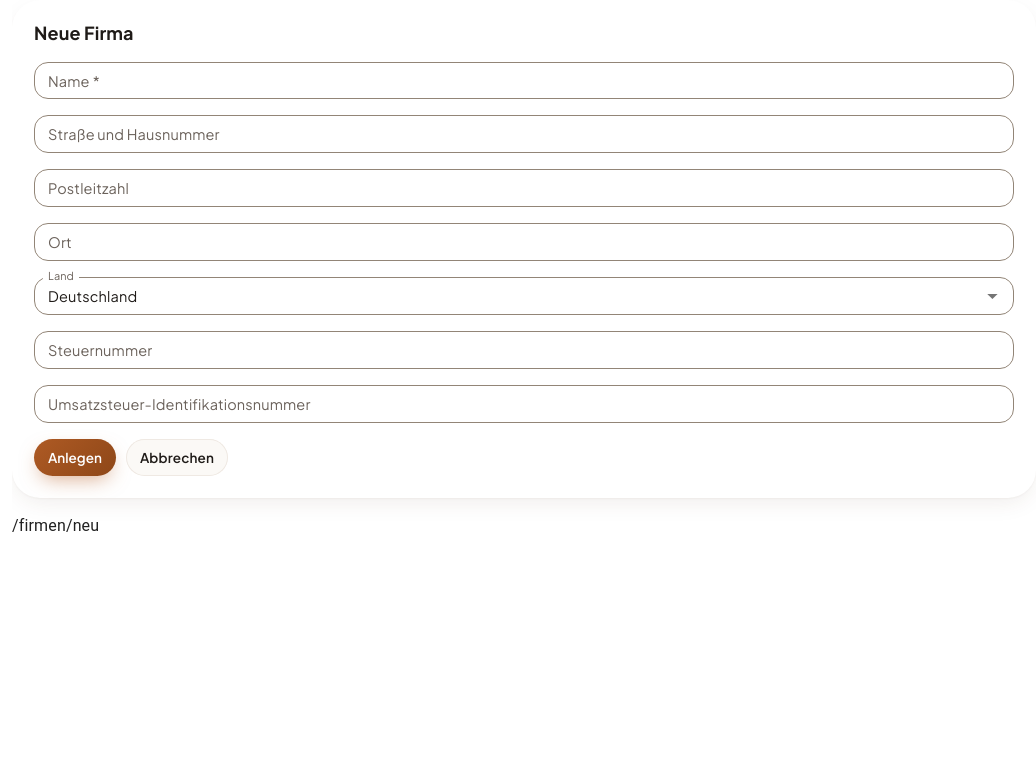
FirmaMaske — Anlegen › zeigt beim Ausfall eine Meldung und bleibt in der Maske
Type "Neue GmbH" into the field labelled "Name" at (524, 80), box [34,62,1014,99]
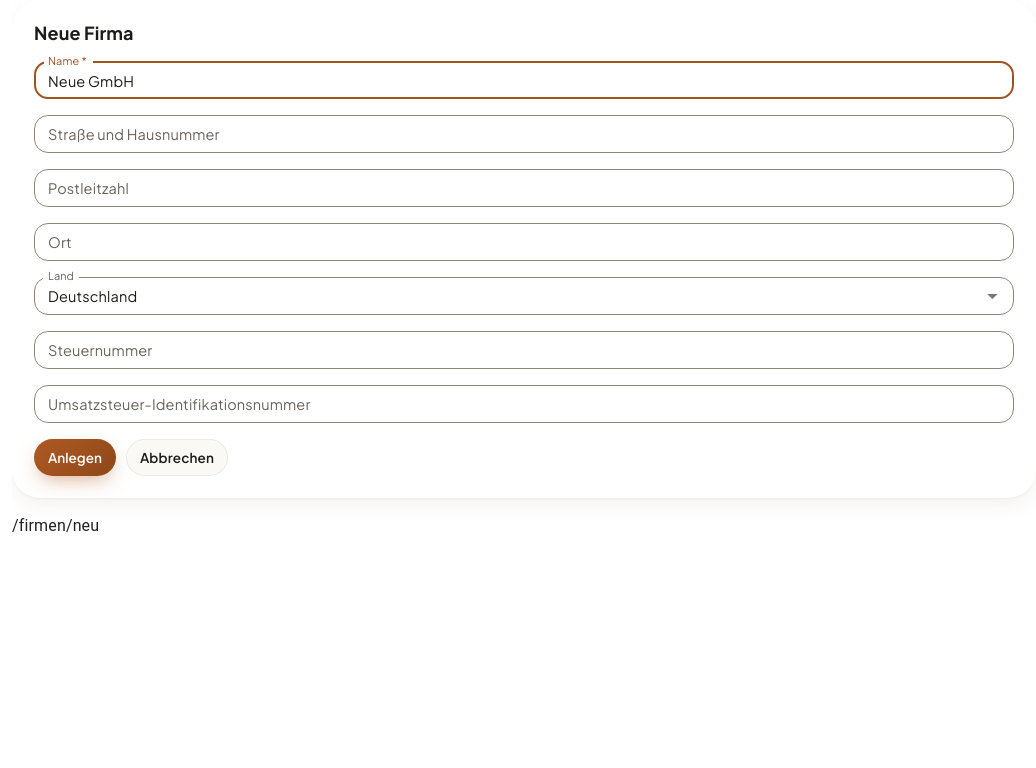
Click the button "Anlegen" at (75, 457), box [34,438,116,476]
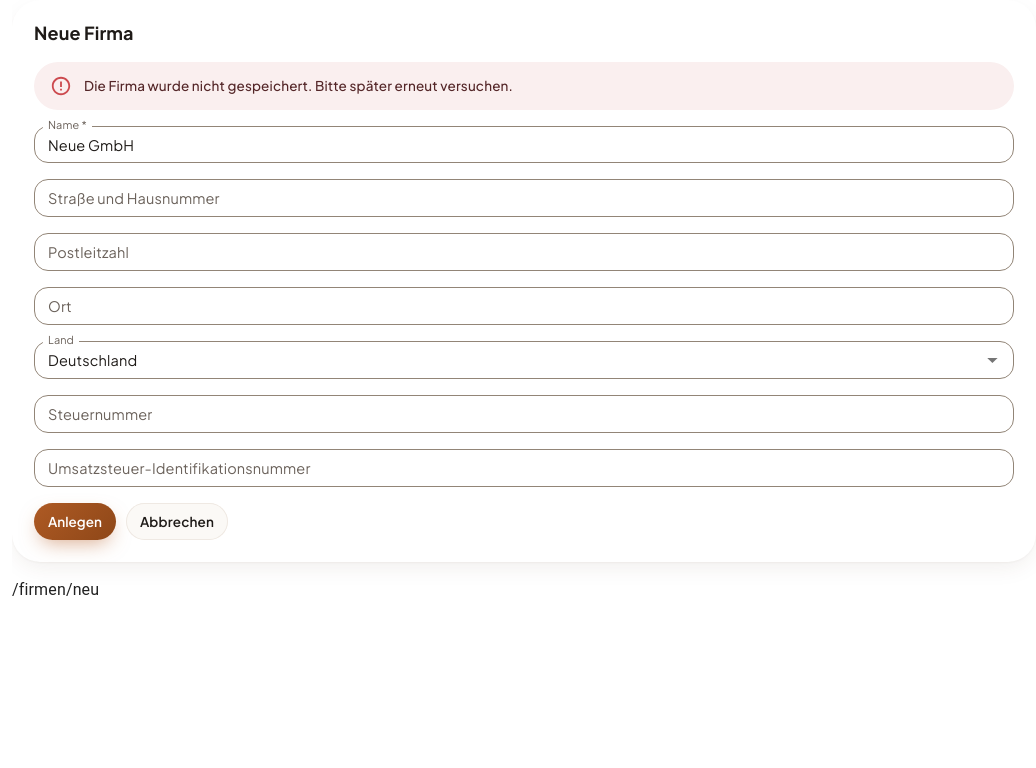
Expected: the text with test id "adresse" reads "/firmen/neu", [12,580,99,599]
Result: the message shows "nicht gespeichert" at [84,77,513,94]
